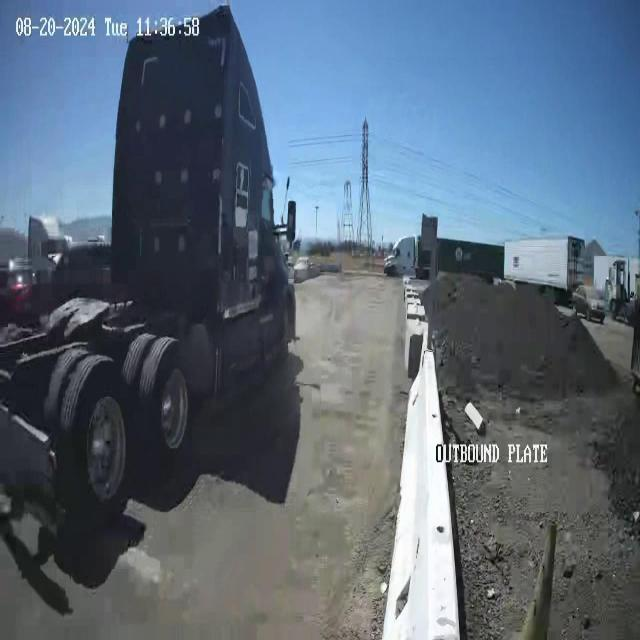BOBTAIL: (1, 4, 298, 521)
